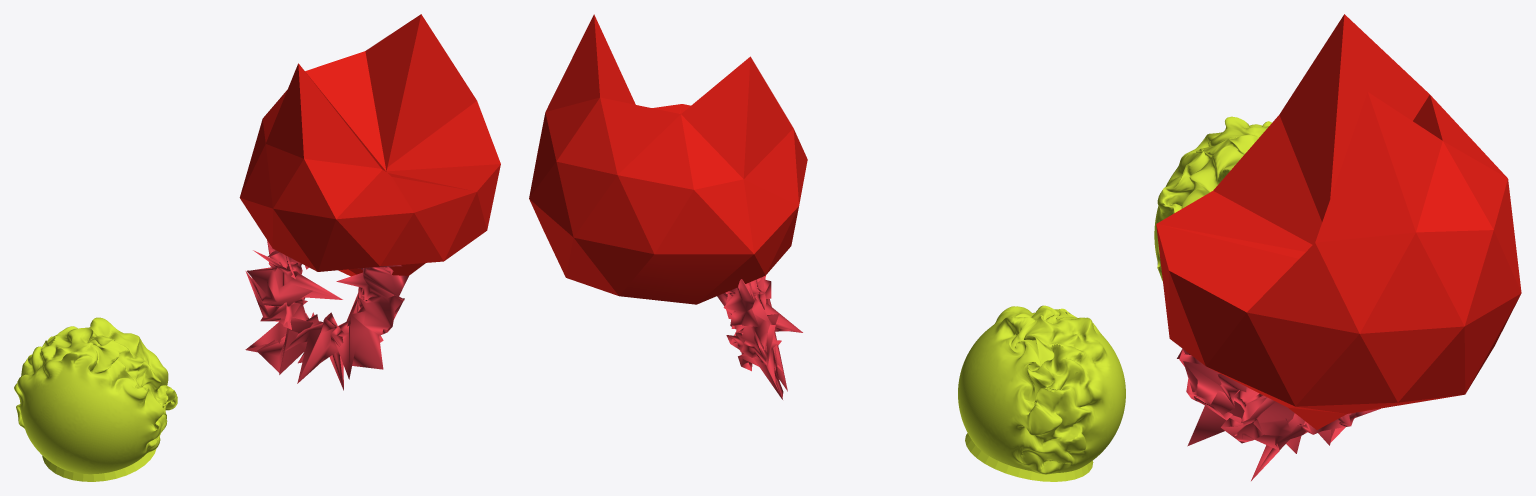
File: domesticpleasures.glb
The picture shows the model from 3 angles, left to right: view 1: azimuth 30°, elevation 25°; view 2: azimuth 150°, elevation 25°; view 3: azimuth 270°, elevation 25°; orthographic projection. The views are drawn at different scales.
Visible parts, largest first — view 1: Icosphere, Quad Sphere, Torus; view 2: Icosphere, Quad Sphere, Torus; view 3: Icosphere, Torus, Quad Sphere.
Part boxes in pixels (x1,y1,x2,y2): Icosphere: (239, 14, 500, 276); Quad Sphere: (14, 317, 177, 481); Torus: (245, 240, 408, 390); Icosphere: (529, 14, 807, 304); Quad Sphere: (958, 305, 1125, 481); Torus: (717, 275, 802, 399); Icosphere: (1156, 14, 1521, 429); Torus: (1177, 348, 1380, 480); Quad Sphere: (1154, 116, 1271, 281).
Size of the model in its own units: 4.78 by 3.24 by 2.13.
